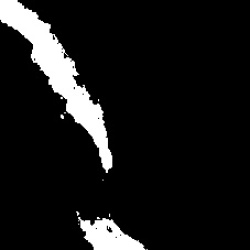crack: (1, 1, 111, 174), (77, 210, 147, 249)
